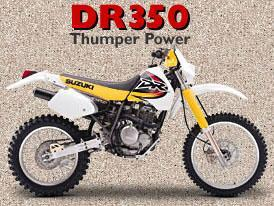motorcycle: (1, 41, 274, 202)
